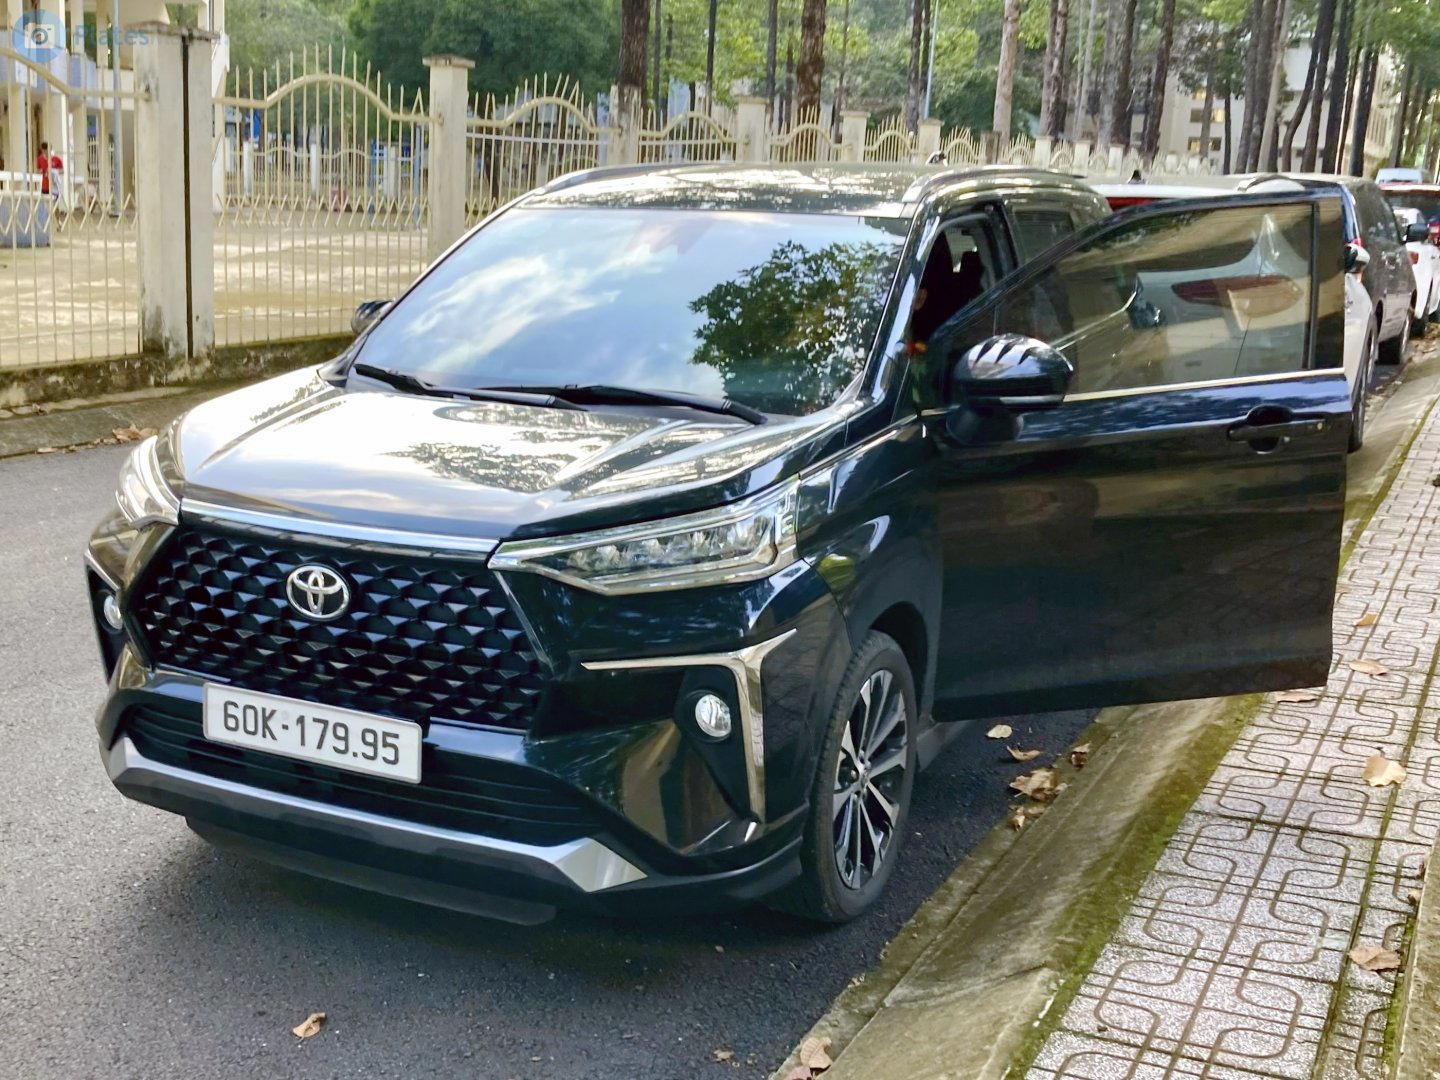bien_so: (203, 685, 423, 784)
